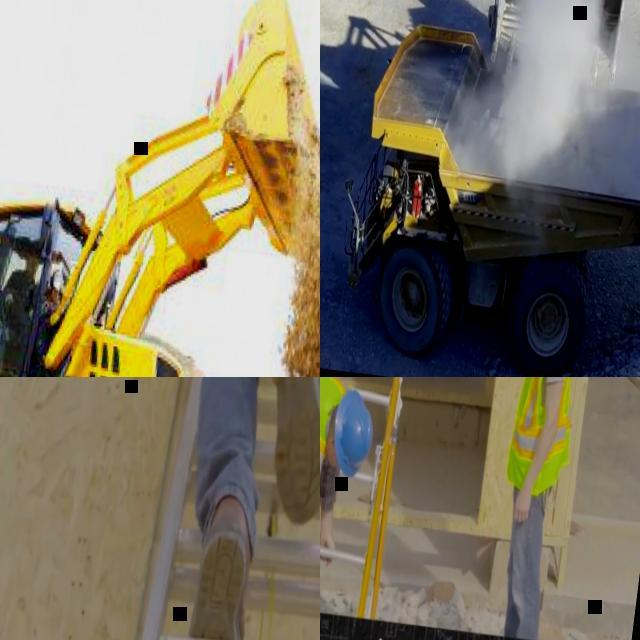Helmet: (331, 385, 391, 491)
Robbery: (488, 374, 640, 640), (319, 373, 410, 556)
